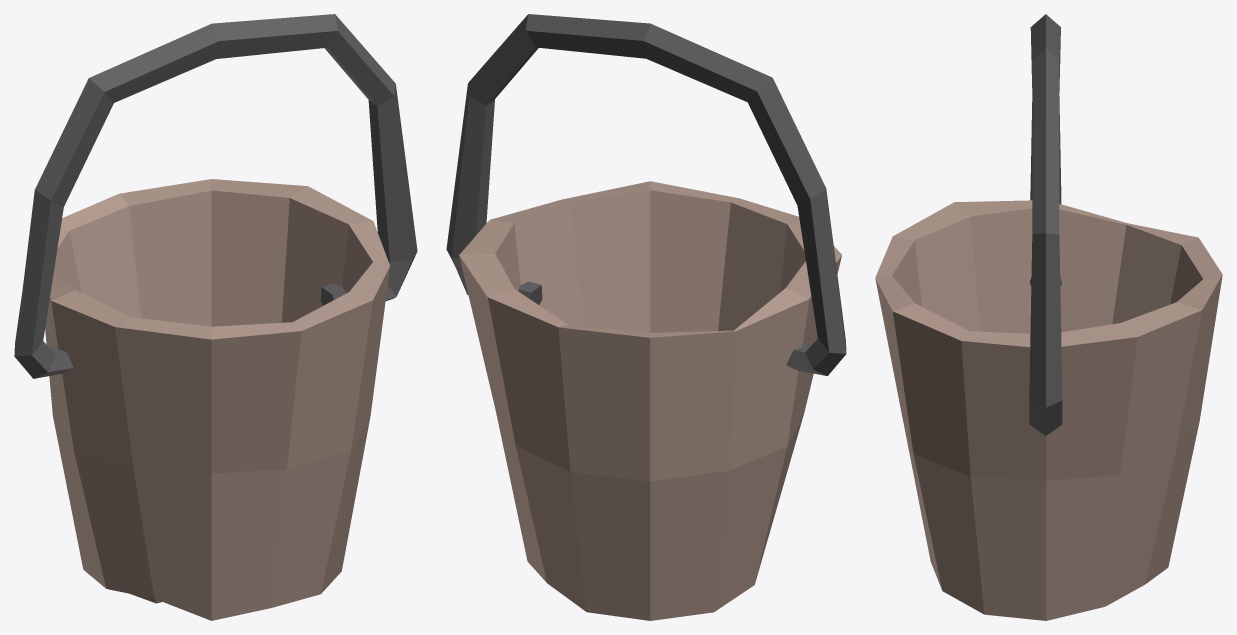
File: Bucket.fbx
3 views of the same model, side by side, from view 1: azimuth 30°, elevation 25°; view 2: azimuth 150°, elevation 25°; view 3: azimuth 270°, elevation 25° (orthographic). The views are drawn at different scales.
Visible parts, largest first — view 1: Bucket, HandleBucket; view 2: Bucket, HandleBucket; view 3: Bucket, HandleBucket.
Part boxes in pixels (box(x1,y1,x2,y2)): Bucket: box(45, 179, 389, 620); HandleBucket: box(14, 14, 417, 378); Bucket: box(459, 181, 841, 620); HandleBucket: box(446, 14, 846, 375); Bucket: box(875, 200, 1222, 620); HandleBucket: box(1029, 14, 1062, 435).
Bounding box in the file's own units: 62.06 × 80.61 × 48.68.
